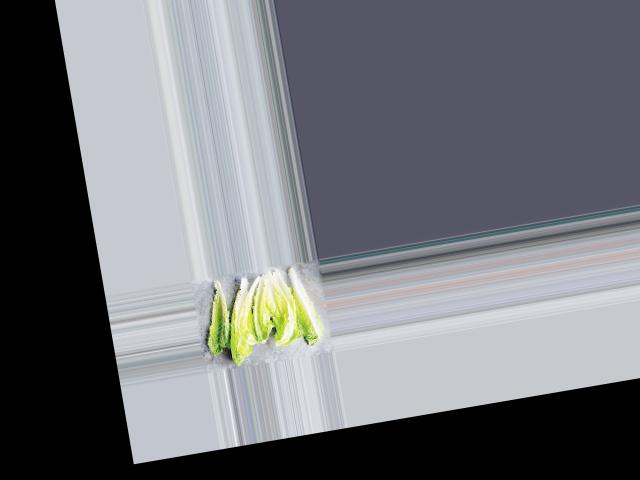lettuce: (199, 276, 236, 355)
